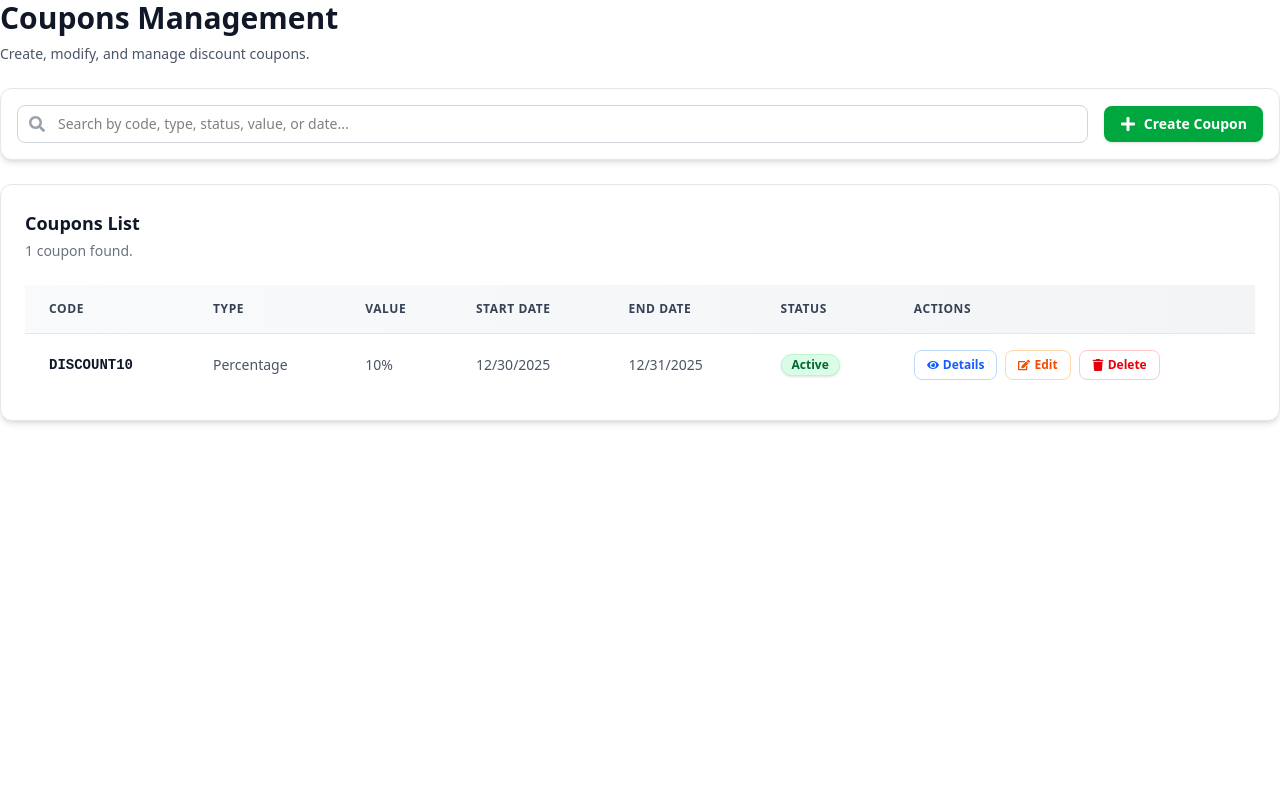
AdminCoupons › opens view details modal
The image size is (1280, 800).
Click the button "Details". click: (956, 365)
box: [914, 350, 998, 380]
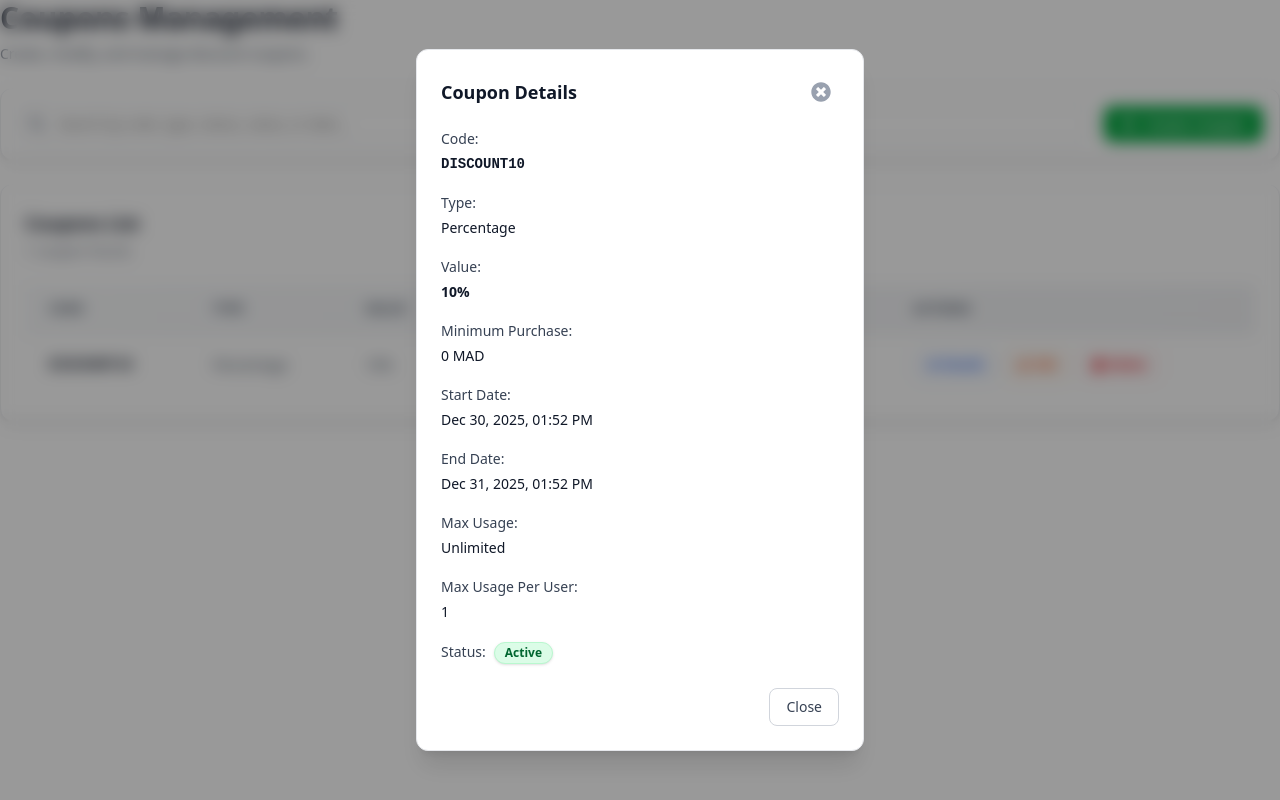
Check: the text "DISCOUNT10" in the row of "12/30/2025" is shown, box [49, 357, 133, 373]
Check: the heading "Coupon Details" is shown, box [441, 78, 577, 106]
